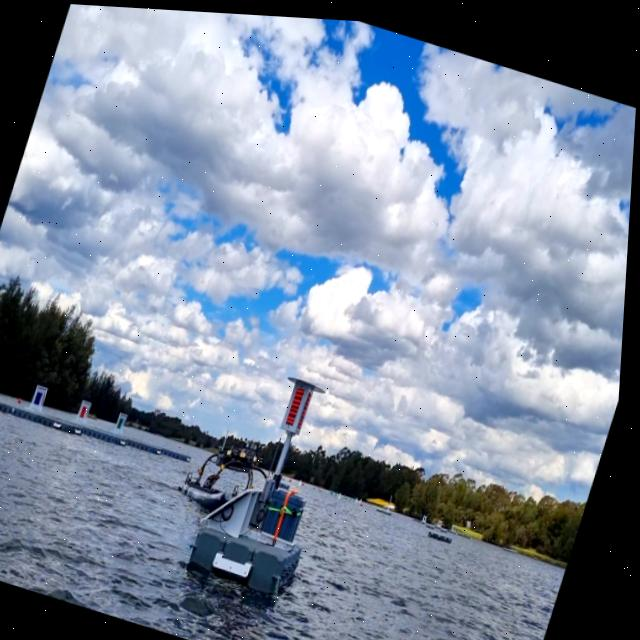led: (287, 379, 311, 425)
